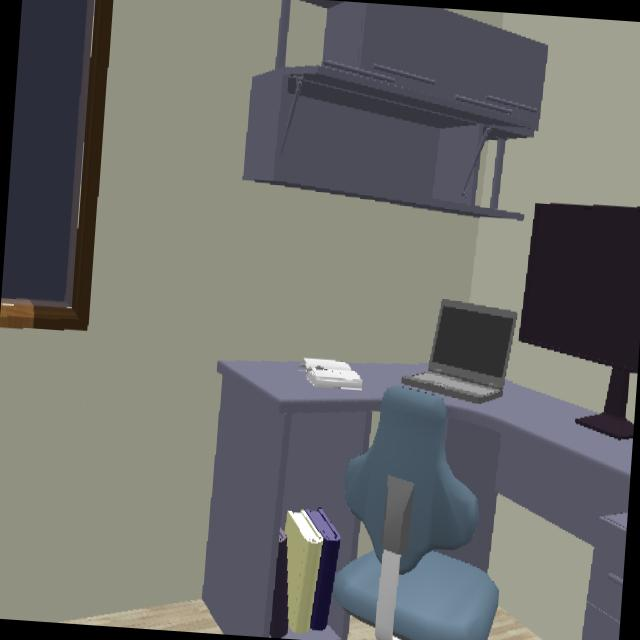book: (270, 509, 341, 637)
chair: (334, 385, 499, 640)
laptop: (408, 299, 517, 400)
monitor: (518, 202, 640, 374)
table: (201, 360, 427, 637), (444, 383, 633, 640)
